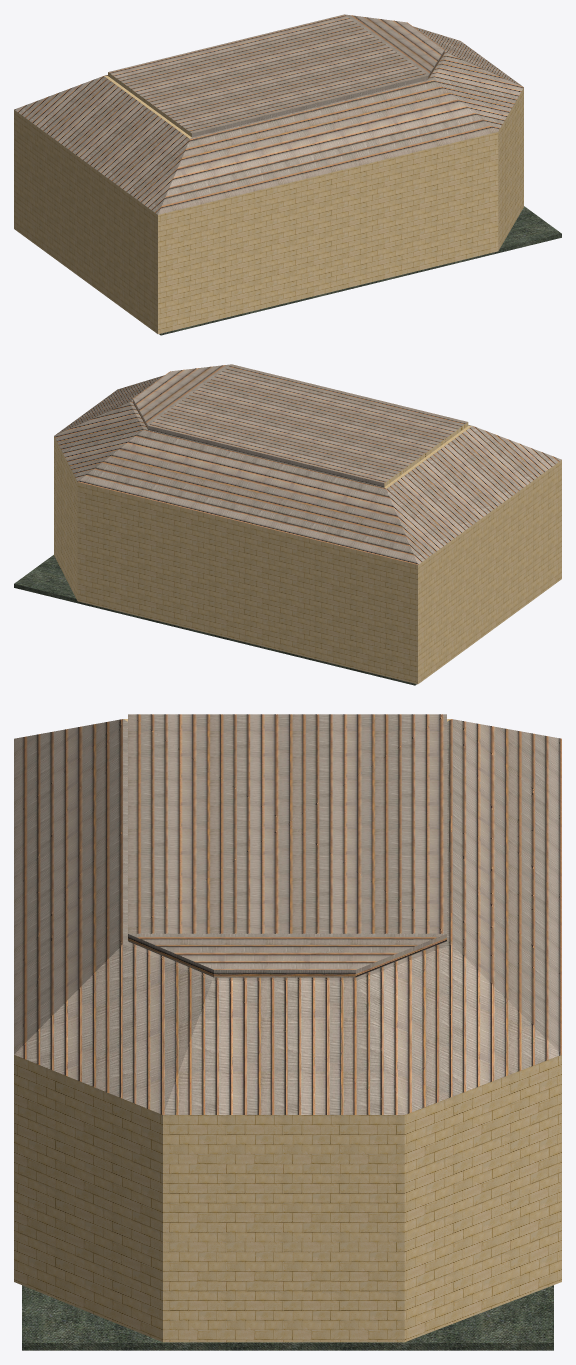
Rendered from LBLT.obj.
3 views of the same model, one above another, from view 1: azimuth 30°, elevation 25°; view 2: azimuth 150°, elevation 25°; view 3: azimuth 270°, elevation 25° (orthographic). The views are drawn at different scales.
Parts seen in each view (by area): view 1: Object.2, Object.1, Object.3; view 2: Object.2, Object.1, Object.3; view 3: Object.1, Object.2, Object.3.
Boxes of the visible parts, x1=… form: Object.2: x1=14, y1=88, x2=523, y2=334; Object.1: x1=14, y1=14, x2=523, y2=214; Object.3: x1=159, y1=206, x2=561, y2=335; Object.2: x1=54, y1=436, x2=561, y2=684; Object.1: x1=54, y1=364, x2=561, y2=564; Object.3: x1=14, y1=555, x2=416, y2=685; Object.1: x1=14, y1=714, x2=561, y2=1114; Object.2: x1=14, y1=1055, x2=561, y2=1342; Object.3: x1=22, y1=1285, x2=553, y2=1350.
Size of the model in its own units: 106 by 41.83 by 65.19.
Materials: 5 (4 with a texture image).
